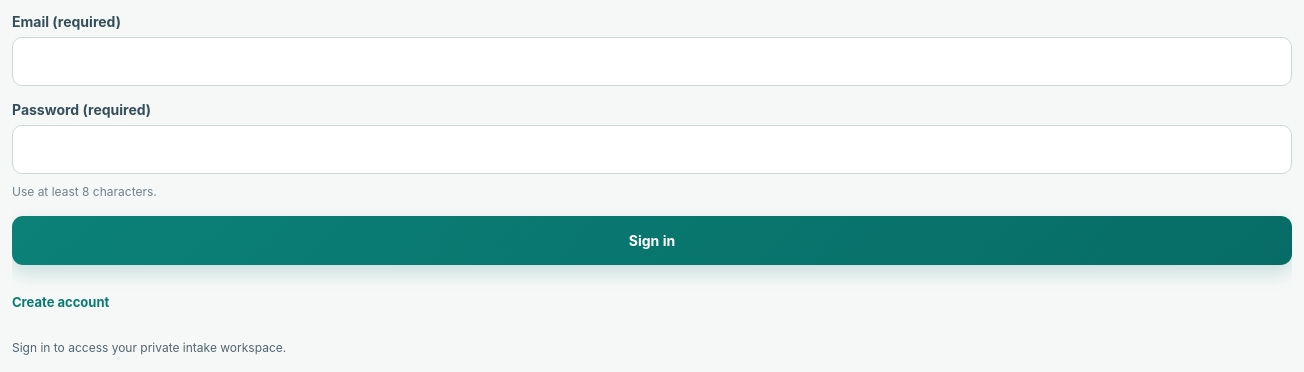
it: Assessment interactions › keeps the form and rejects a sign-in response without a session
The width and height of the screenshot is (1304, 372).
Type "sample@example.invalid" into the field labelled "Email (required)" at point(652, 62), box [12,37,1292,86]
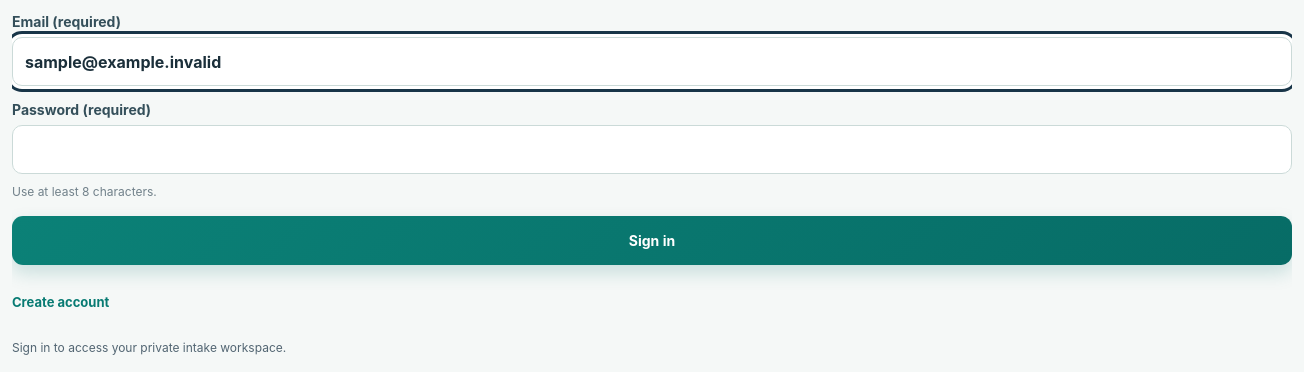
Type "sample-password" into the password field labelled "Password (required)" at point(652, 150), box [12,125,1292,174]
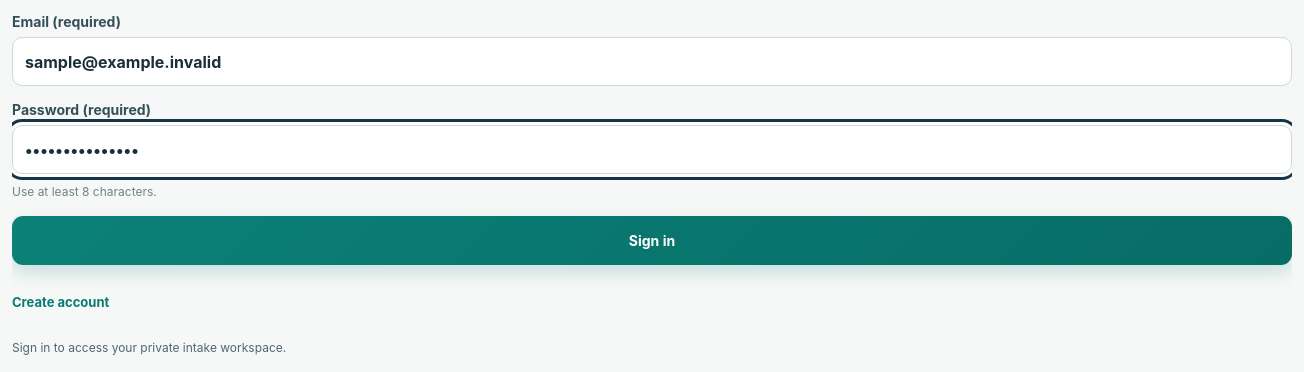
Click the button "Sign in" at point(652, 241), box [12,216,1292,265]
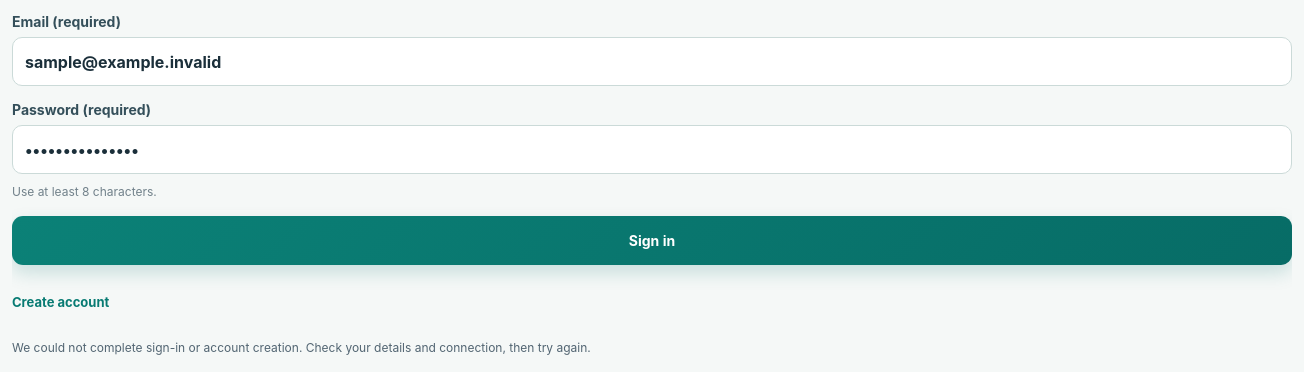
Result: the message is shown at [12,340,591,355]
